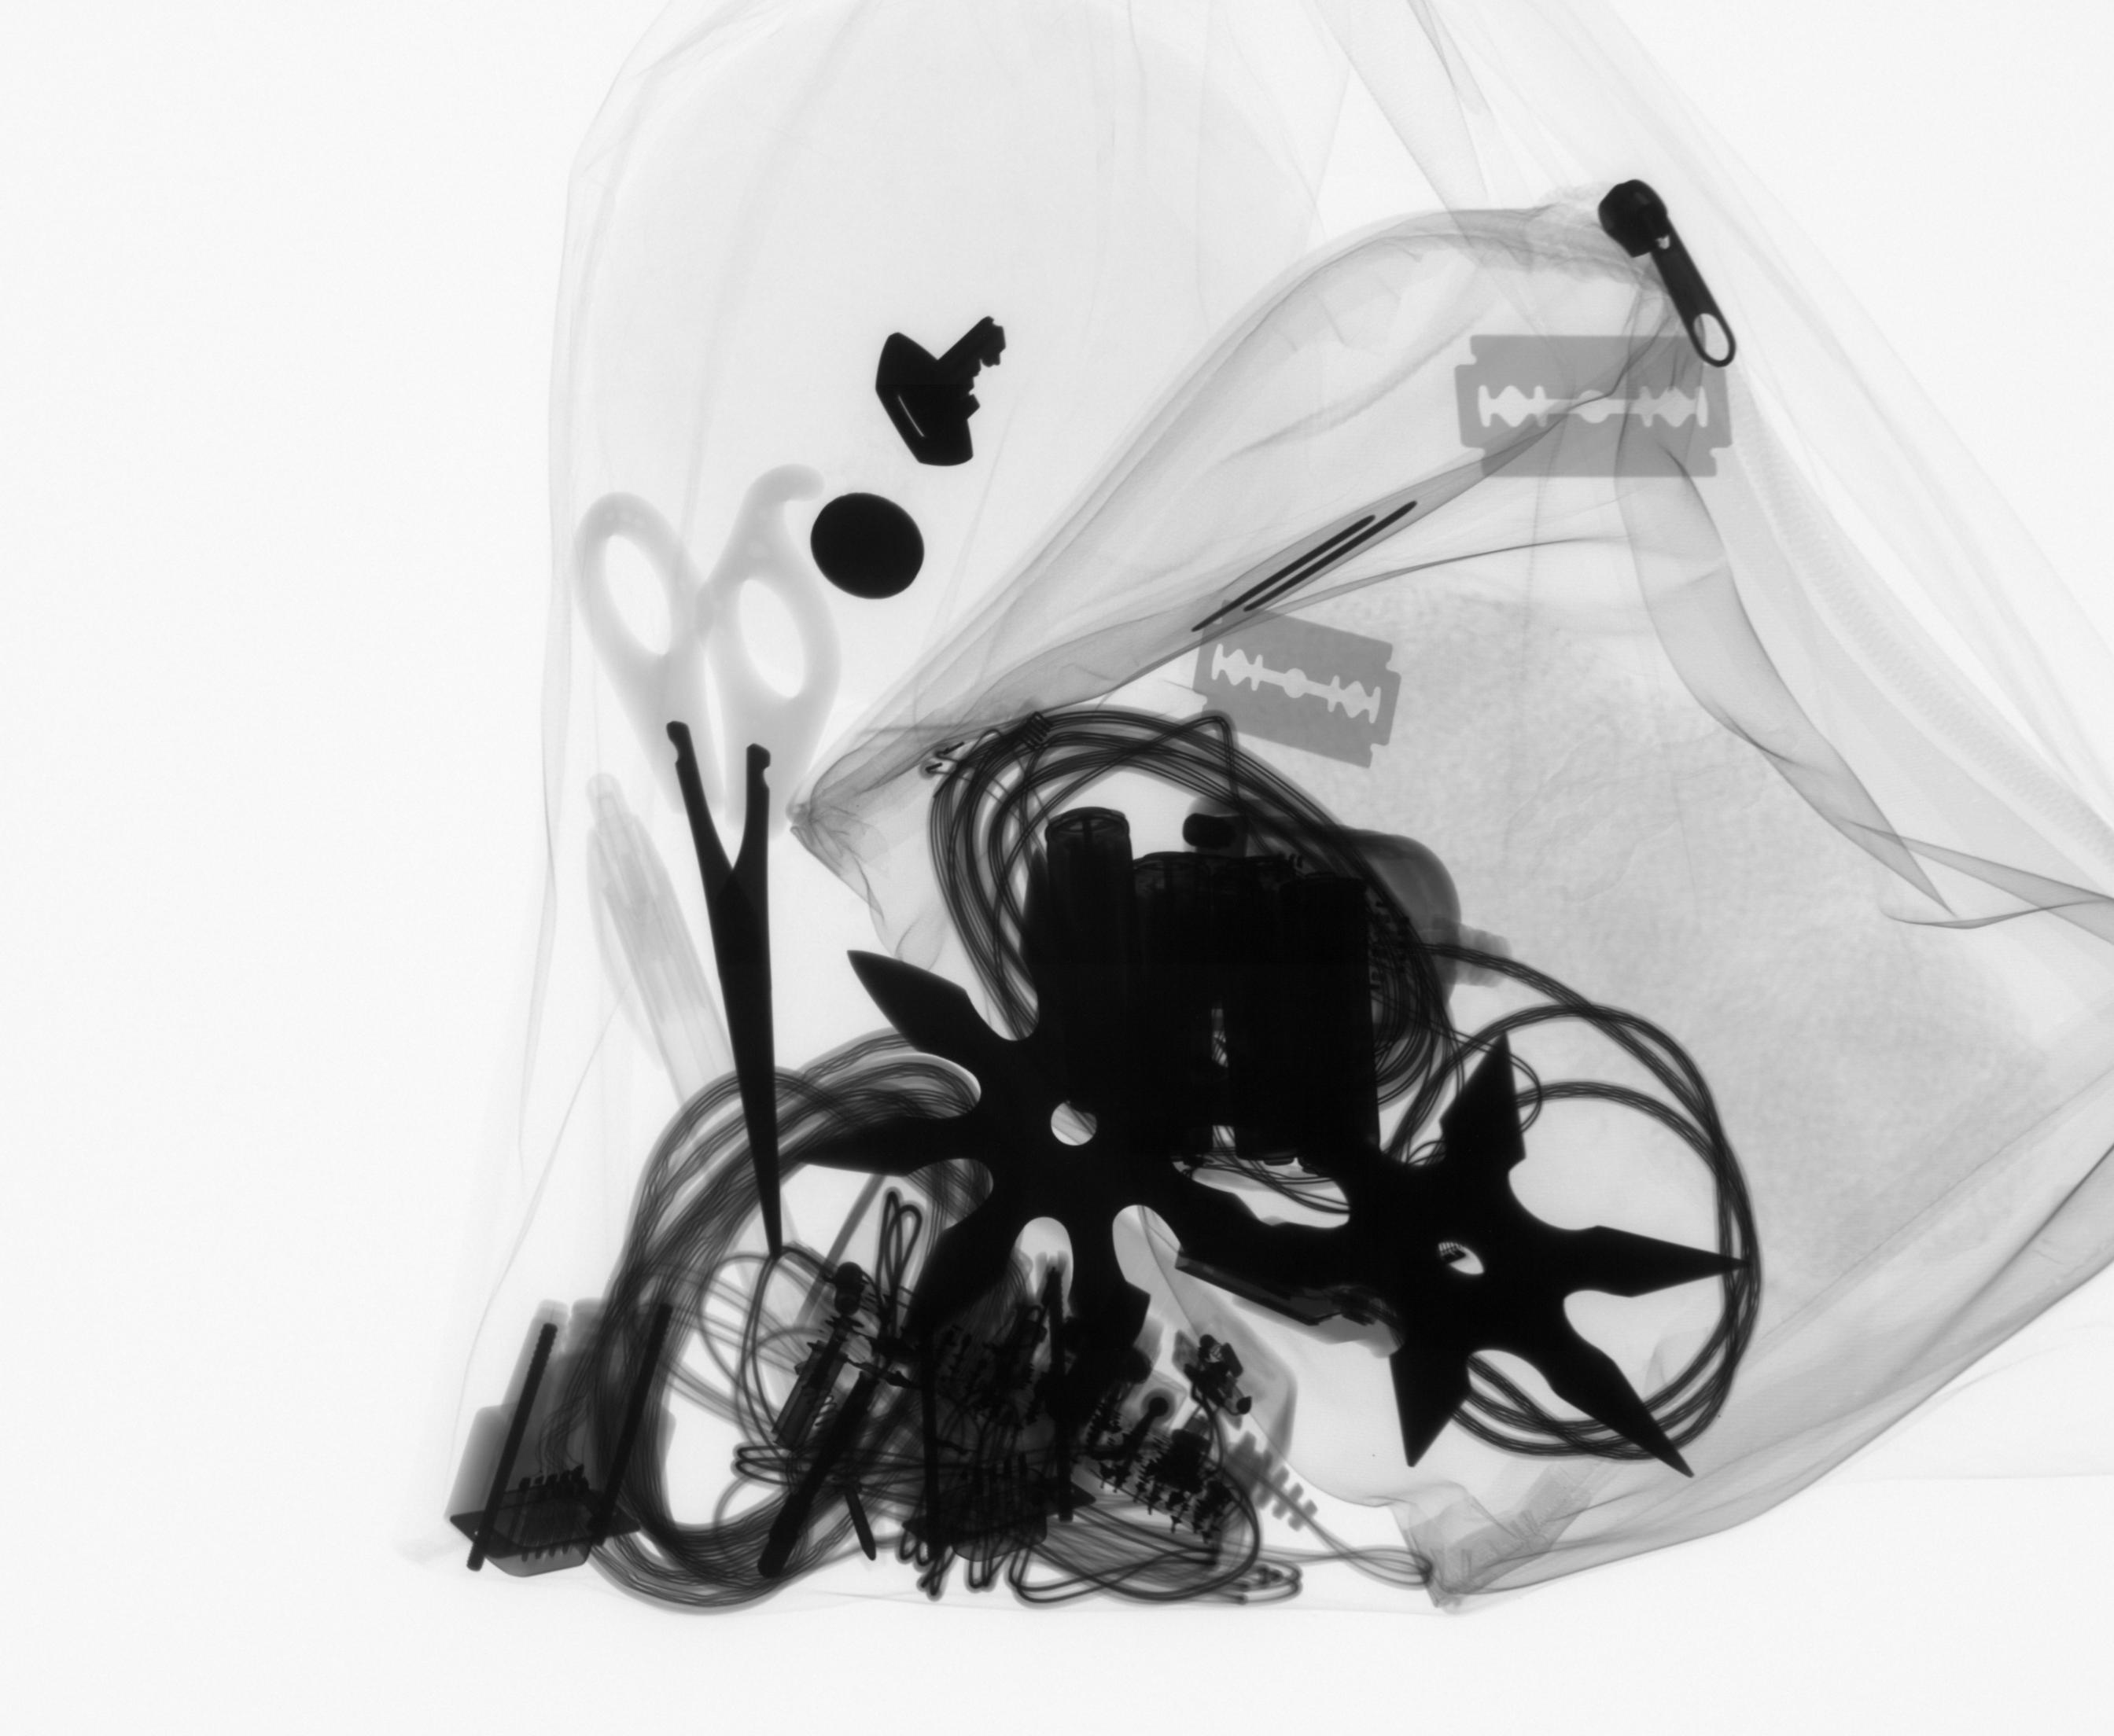RazorBlade: (1442, 325, 1745, 491), (1185, 595, 1415, 781)
Shuriken: (1280, 1057, 1738, 1506), (822, 937, 1224, 1325)
